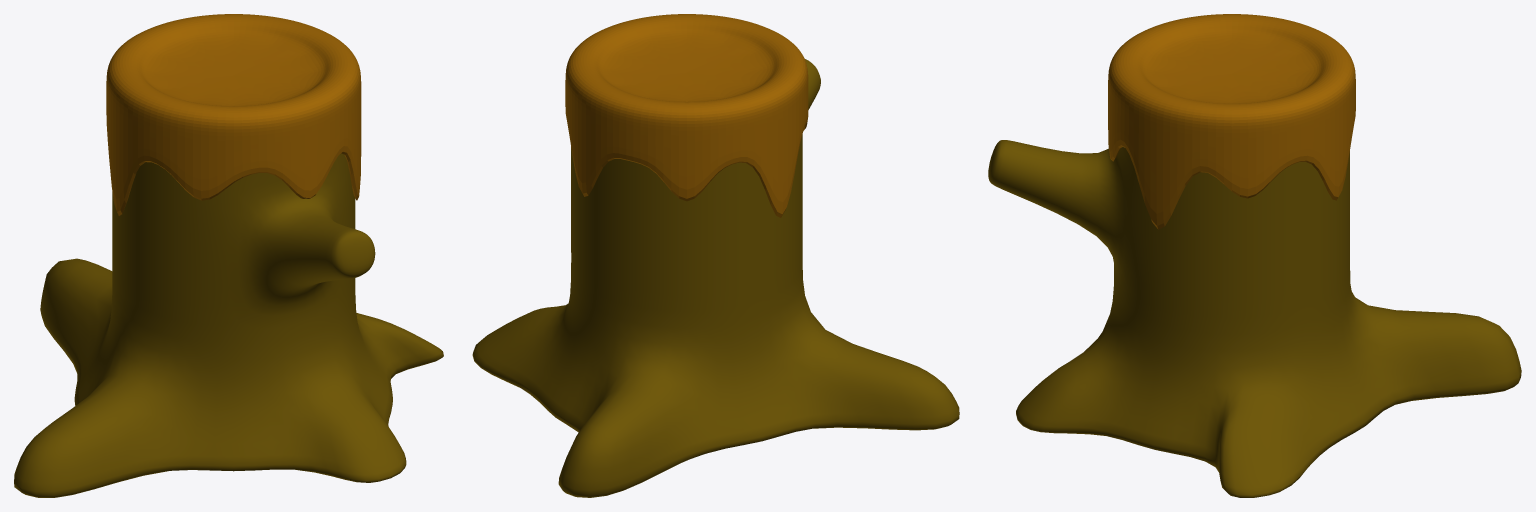
3 views of the same model, side by side, from view 1: azimuth 30°, elevation 25°; view 2: azimuth 150°, elevation 25°; view 3: azimuth 270°, elevation 25° (orthographic). The views are drawn at different scales.
Visible parts, largest first — view 1: 柱体, 柱体.001; view 2: 柱体, 柱体.001; view 3: 柱体, 柱体.001.
Part boxes in pixels (x1,y1,x2,y2): 柱体: (14, 153, 443, 497); 柱体.001: (106, 14, 361, 215); 柱体: (472, 59, 959, 497); 柱体.001: (565, 14, 808, 217); 柱体: (988, 140, 1521, 497); 柱体.001: (1108, 14, 1355, 229).
Size of the model in its own units: 419 by 304 by 431.
